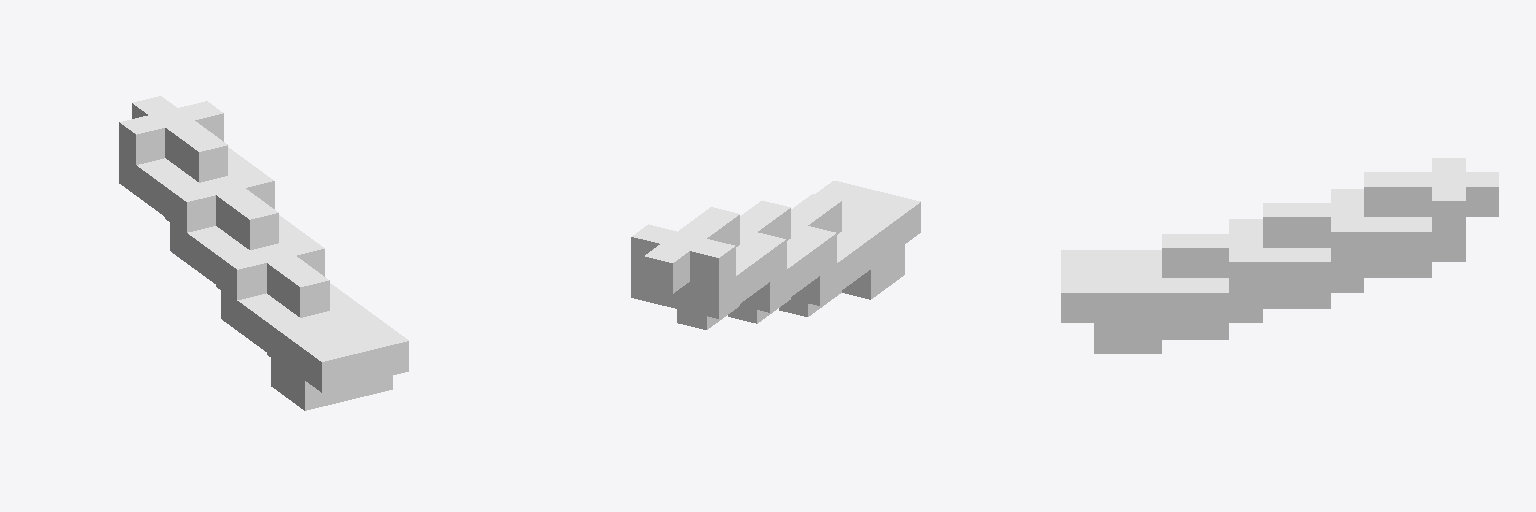
File: Enemy1-5.obj
The picture shows the model from 3 angles: view 1: azimuth 30°, elevation 25°; view 2: azimuth 150°, elevation 25°; view 3: azimuth 270°, elevation 25°; orthographic projection.
Visible parts, largest first — view 1: object 1; view 2: object 1; view 3: object 1.
Boxes of the visible parts, x1,y1,x2,y2 form: object 1: [119, 96, 408, 410]; object 1: [631, 181, 920, 329]; object 1: [1061, 158, 1498, 353].
Size of the model in its own units: 0.3 by 0.5 by 1.3.